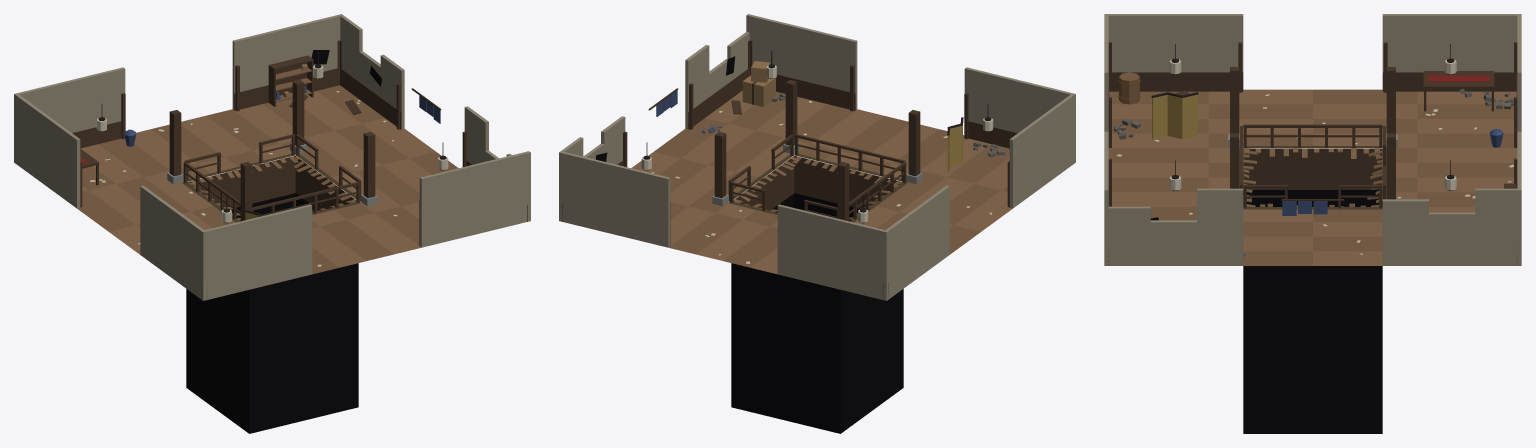
File: O_B_pit.fbx
The picture shows the model from 3 angles, left to right: view 1: azimuth 30°, elevation 25°; view 2: azimuth 150°, elevation 25°; view 3: azimuth 270°, elevation 25°; orthographic projection. The views are drawn at different scales.
Visible parts, largest first — view 1: O_B_pit, O_B_pit_Deco; view 2: O_B_pit, O_B_pit_Deco; view 3: O_B_pit, O_B_pit_Deco.
Part boxes in pixels (x1=…): O_B_pit: x1=14, y1=14, x2=530, y2=300; O_B_pit_Deco: x1=72, y1=40, x2=527, y2=433; O_B_pit: x1=559, y1=14, x2=1075, y2=300; O_B_pit_Deco: x1=562, y1=40, x2=1017, y2=433; O_B_pit: x1=1104, y1=14, x2=1521, y2=265; O_B_pit_Deco: x1=1108, y1=42, x2=1517, y2=433.
Size of the model in its own units: 2 by 2 by 1.6.
